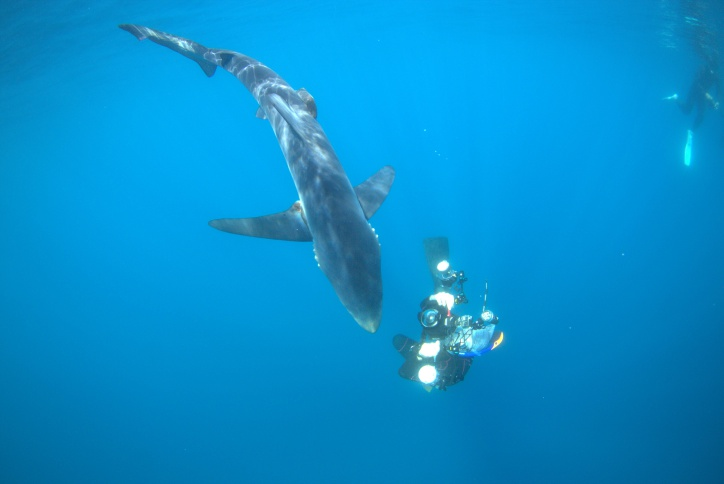Azul: (119, 12, 403, 345)
